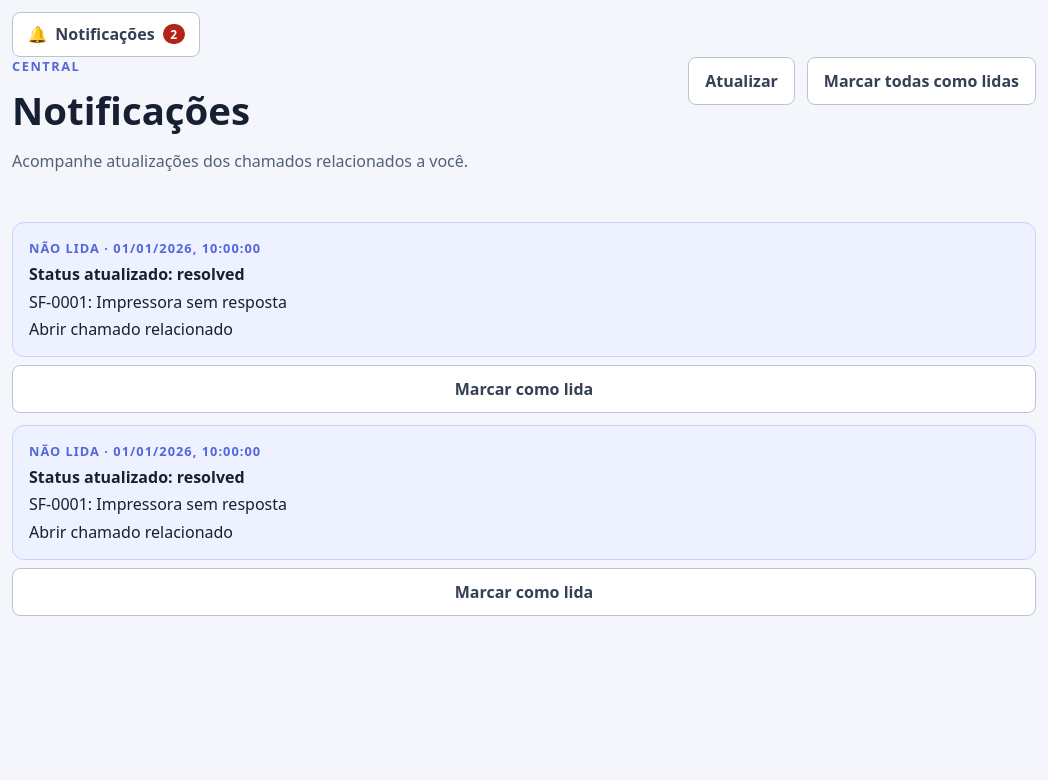
Test case: Notificacoes: contador compartilhado › atualiza o badge ao marcar uma notificacao como lida
Expected: the text "2" is shown, [163,24,185,44]
Click the 1st button "Marcar como lida".
click(524, 389)  # box [12,365,1036,413]
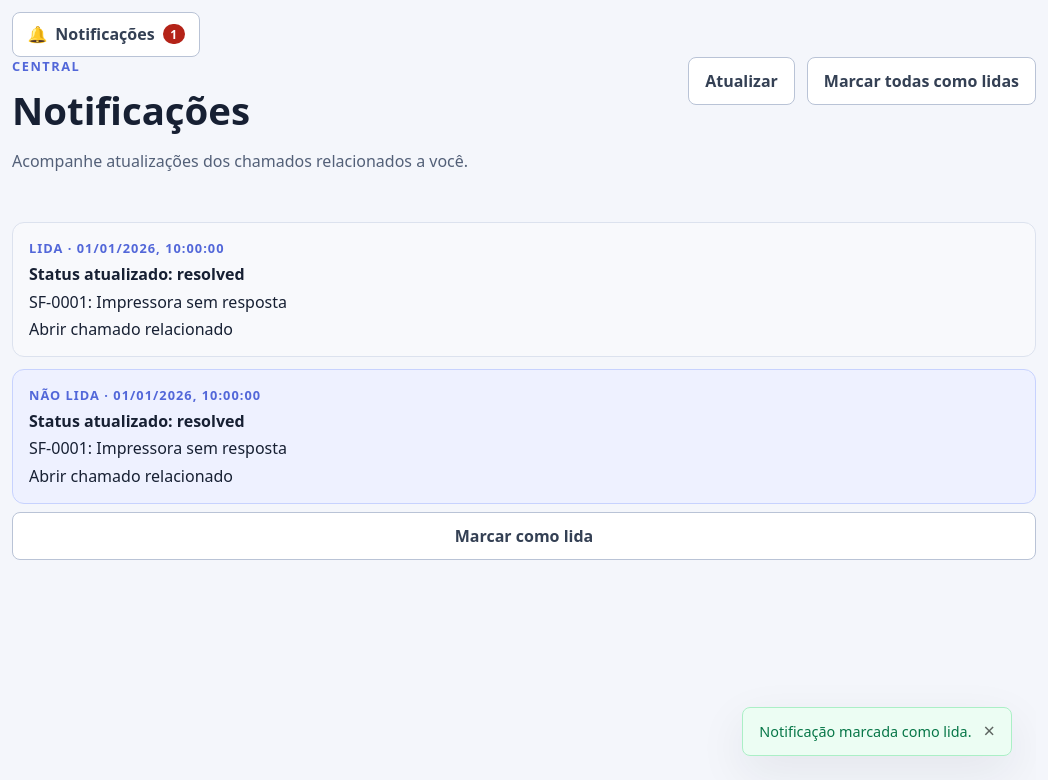
Result: the text "1" is shown at [163,24,185,44]
